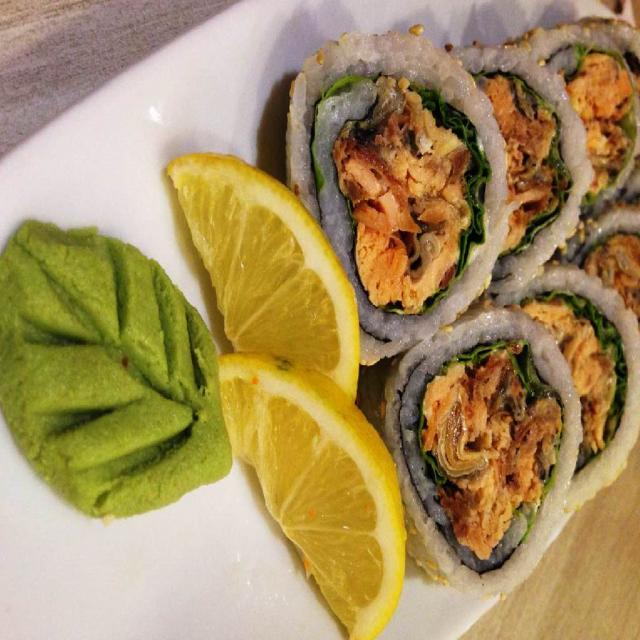Lemon: (218, 349, 408, 640), (159, 152, 358, 398)
